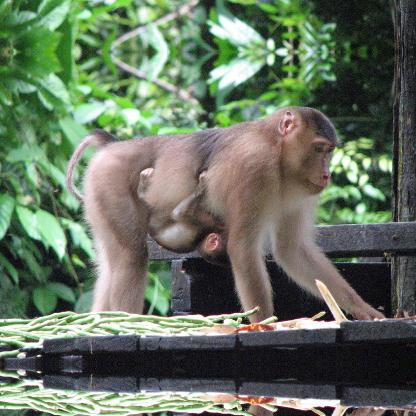Monkey: (67, 101, 377, 330), (136, 172, 226, 268)
